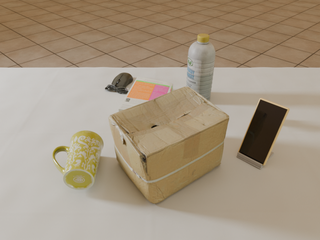book: (119, 77, 173, 111)
bottle: (186, 34, 215, 100)
box: (108, 86, 229, 203)
cup: (52, 131, 103, 190)
mouse: (105, 73, 133, 94)
phone: (238, 98, 289, 165)
